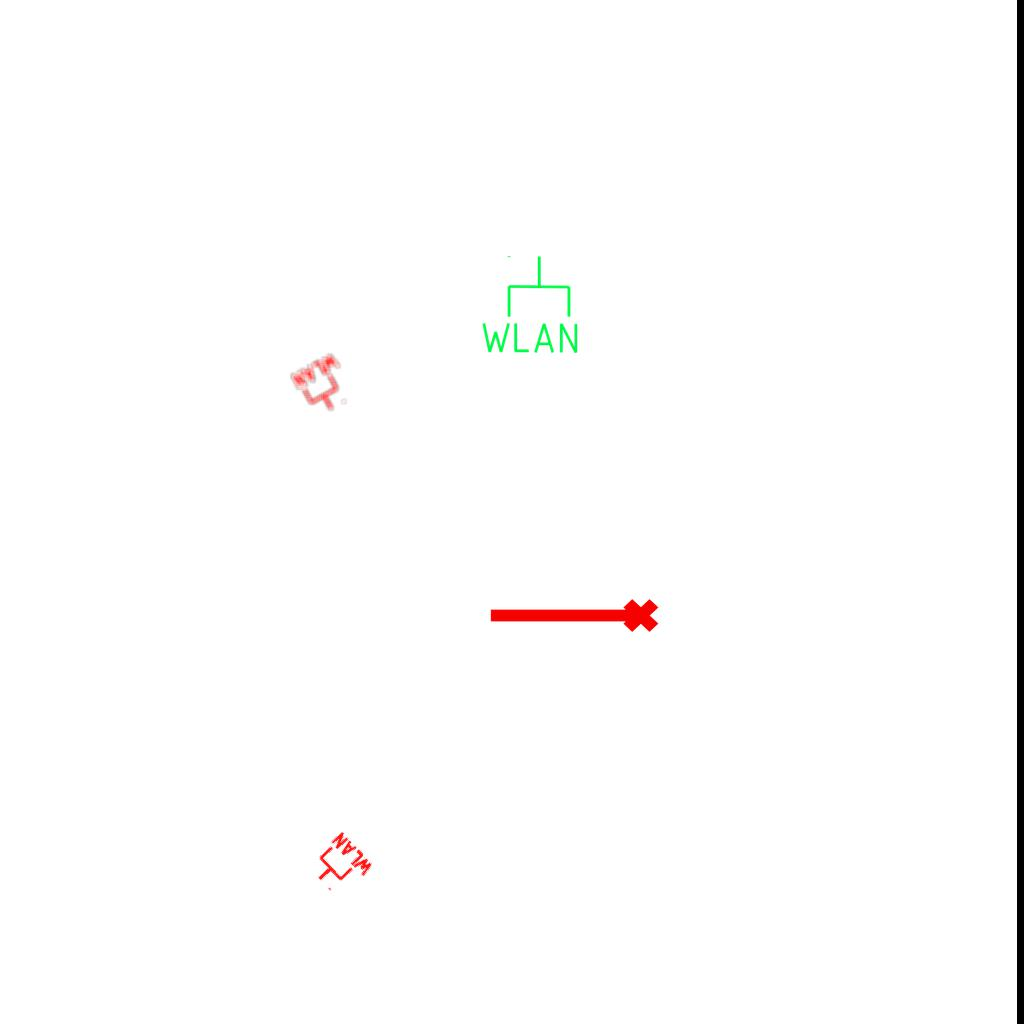ASR_Ansaugoeffnung: (485, 595, 661, 641)
WLAN: (477, 253, 582, 357), (303, 829, 377, 903), (288, 350, 360, 422)
